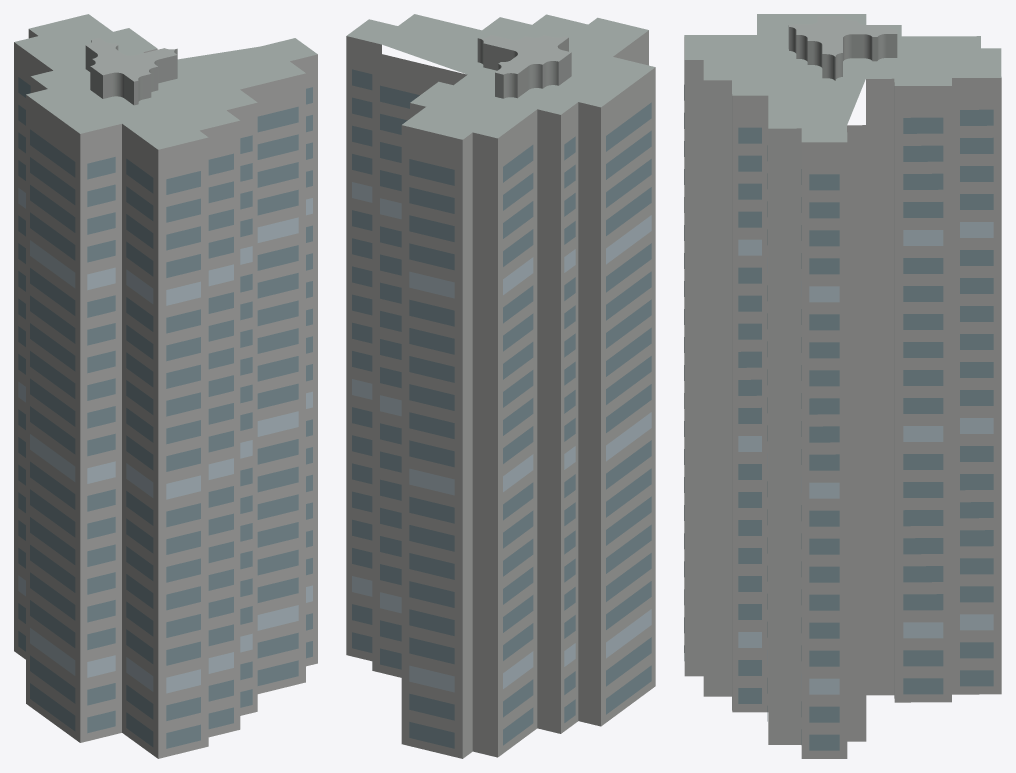
Rendered from fallback-mapo-raemian-prugio-completion-305.glb.
3 renders of one model, left to right at view 1: azimuth 30°, elevation 25°; view 2: azimuth 150°, elevation 25°; view 3: azimuth 270°, elevation 25°, orthographic.
Parts seen in each view (by area): view 1: fallback-mapo-raemian-prugio-completion-305; view 2: fallback-mapo-raemian-prugio-completion-305; view 3: fallback-mapo-raemian-prugio-completion-305.
Boxes of the visible parts, x1,y1,x2,y2 form: fallback-mapo-raemian-prugio-completion-305: (14,14,317,758); fallback-mapo-raemian-prugio-completion-305: (346,14,655,758); fallback-mapo-raemian-prugio-completion-305: (684,14,1001,758).
Bounding box in the file's own units: 27.62 × 64 × 28.79.
